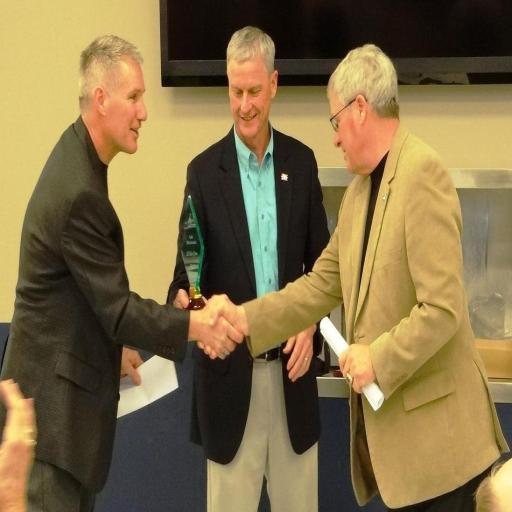person: (236, 45, 508, 511), (2, 36, 242, 511), (169, 27, 329, 307), (0, 380, 36, 511), (475, 460, 511, 511)
